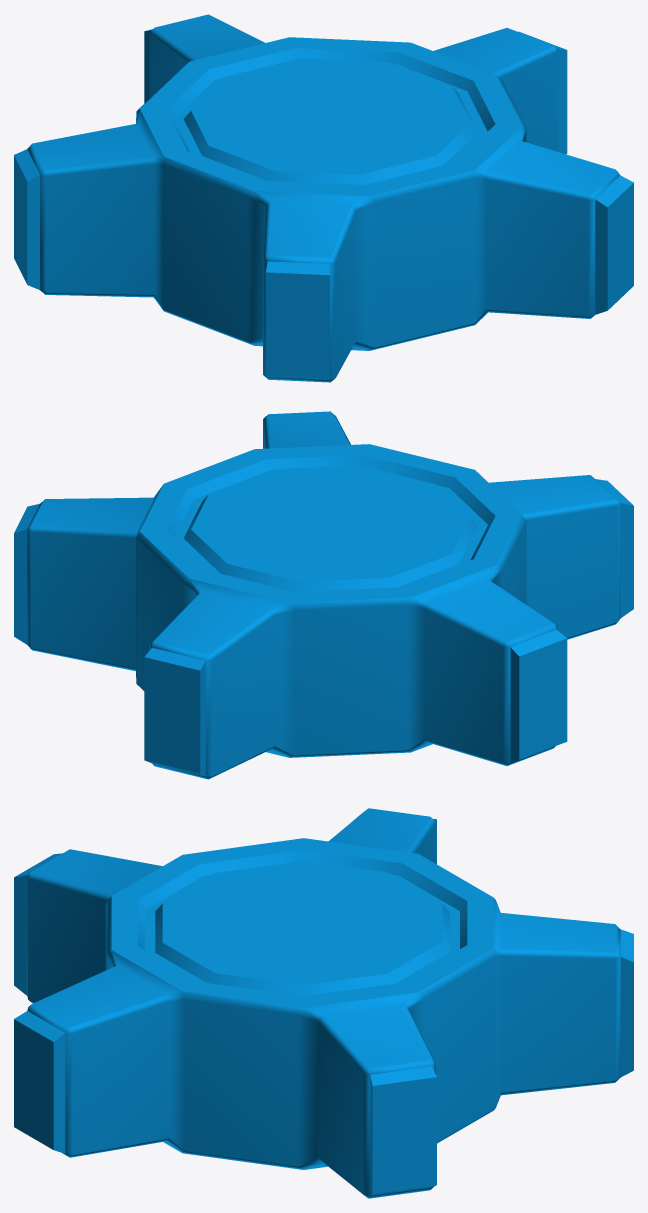
The model's file is gear pushable mesh.fbx.
3 views of the same model, one above another, from view 1: azimuth 30°, elevation 25°; view 2: azimuth 150°, elevation 25°; view 3: azimuth 270°, elevation 25° (orthographic). The views are drawn at different scales.
Parts seen in each view (by area): view 1: Cylinder_1_1; view 2: Cylinder_1_1; view 3: Cylinder_1_1.
Part boxes in pixels (x1=…): Cylinder_1_1: x1=14, y1=14, x2=633, y2=382; Cylinder_1_1: x1=14, y1=411, x2=633, y2=779; Cylinder_1_1: x1=14, y1=808, x2=633, y2=1198.
Size of the model in its own units: 0.0876 by 0.024 by 0.0833.
